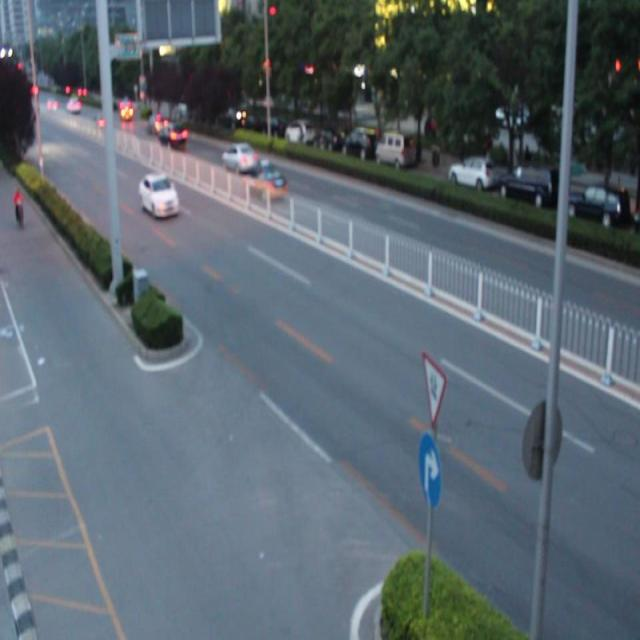car: (138, 176, 179, 217), (245, 167, 285, 200), (221, 141, 259, 174), (158, 121, 188, 150)
